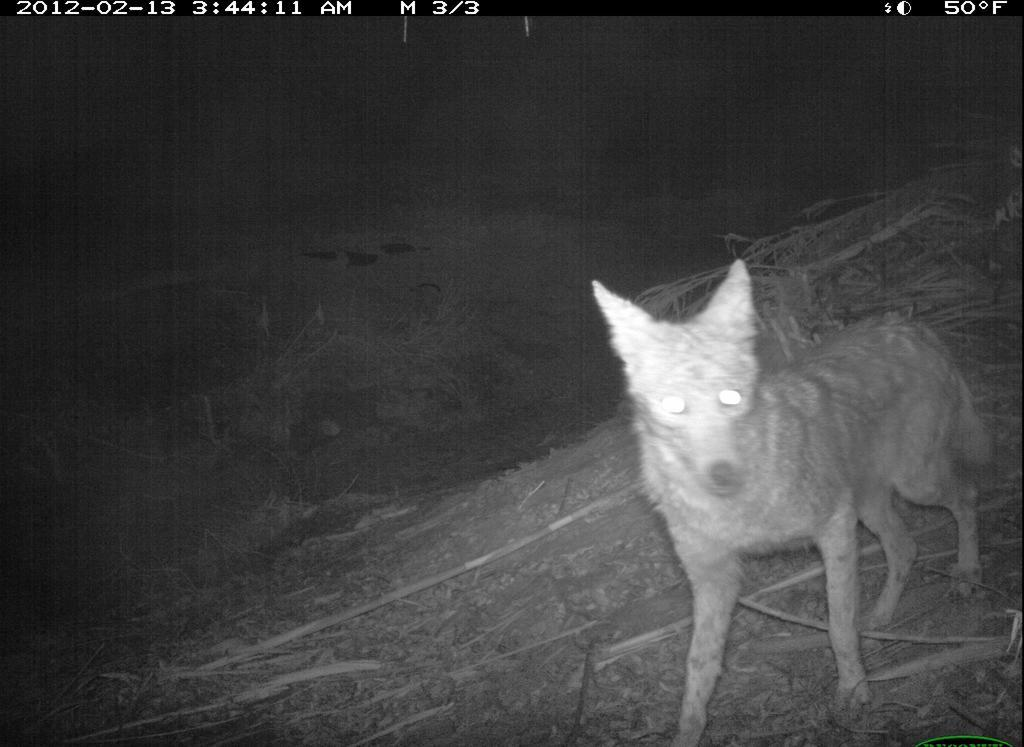coyote: (580, 251, 999, 742)
